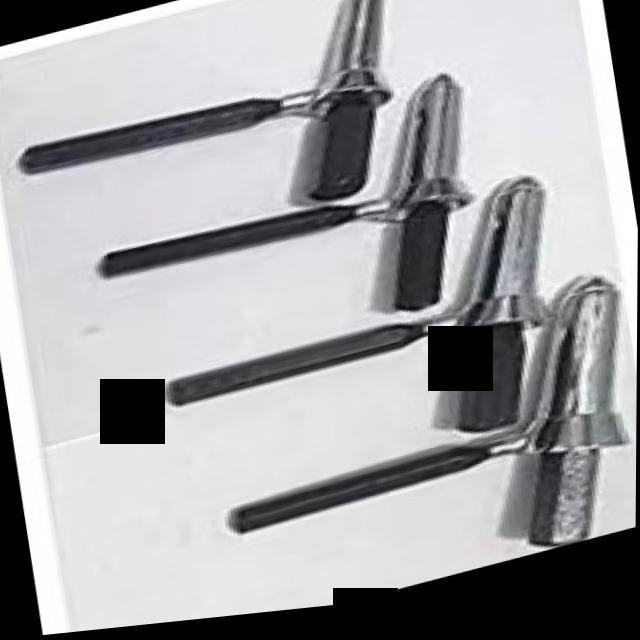Protoscope: (135, 172, 589, 524), (211, 282, 638, 622), (76, 61, 498, 399), (1, 0, 422, 281)
